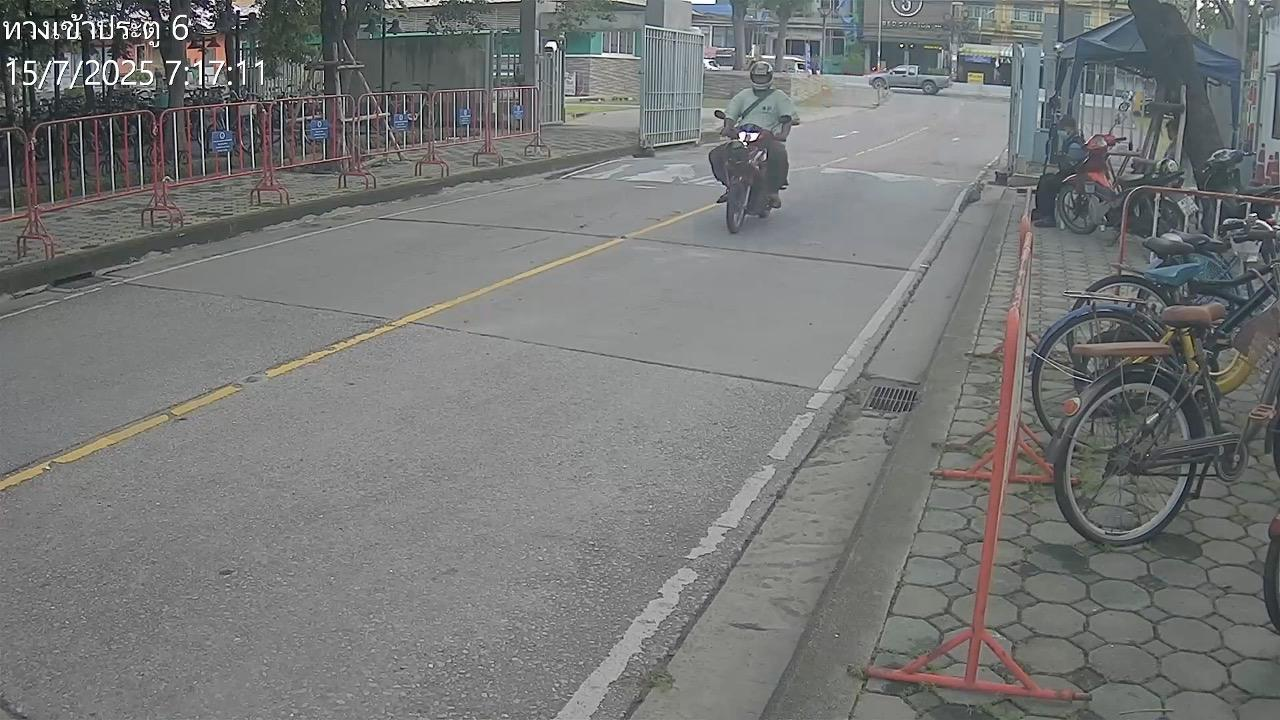With-Helmet: (748, 60, 774, 90)
